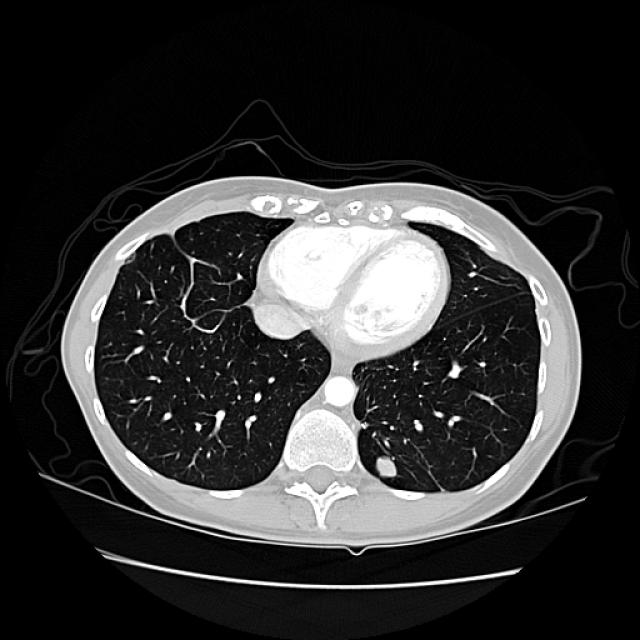nodule: (360, 444, 408, 491)
